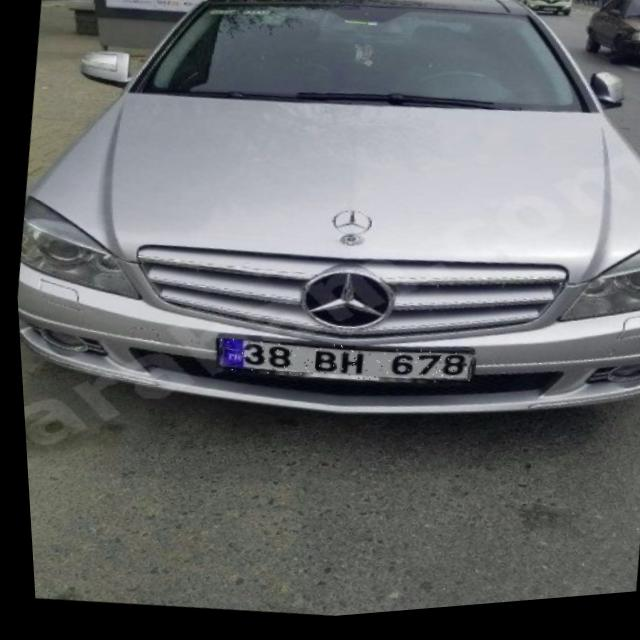license_plate: (209, 326, 471, 410)
